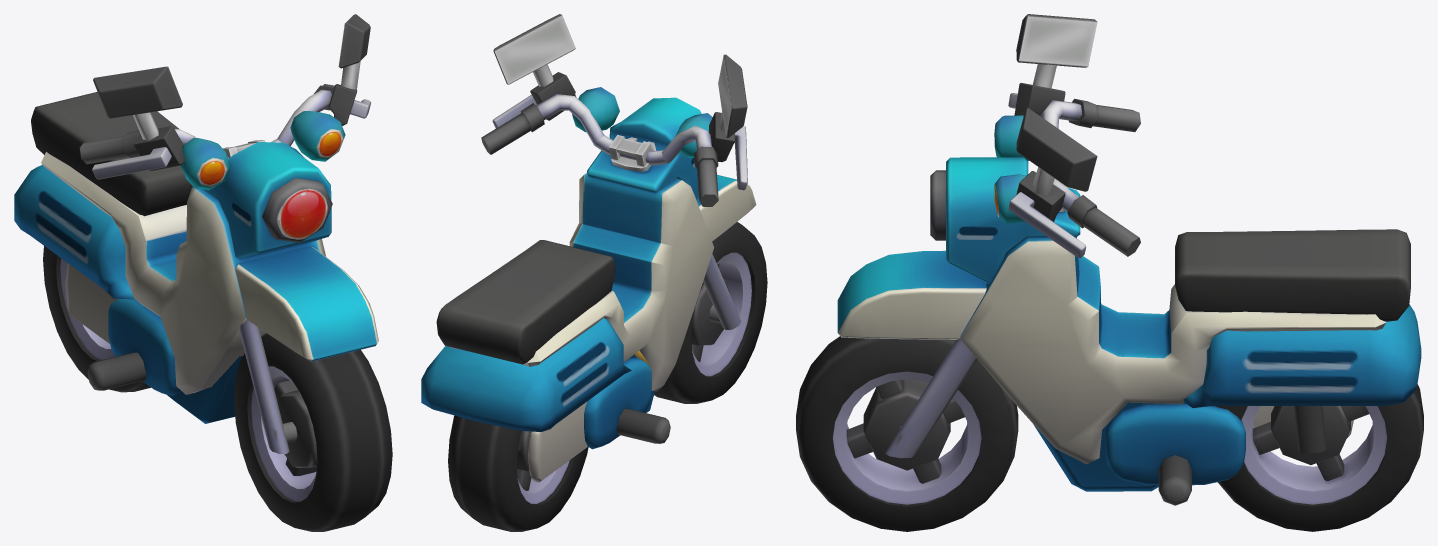
File: Motor.fbx
The picture shows the model from 3 angles, left to right: view 1: azimuth 30°, elevation 25°; view 2: azimuth 150°, elevation 25°; view 3: azimuth 270°, elevation 25°; orthographic projection. The views are drawn at different scales.
Visible parts, largest first — view 1: Xe, BanhTruoc, BanhSau; view 2: Xe, BanhSau, BanhTruoc; view 3: Xe, BanhTruoc, BanhSau.
Boxes of the visible parts, bbox=[...] form: Xe: bbox=[14, 14, 378, 453]; BanhTruoc: bbox=[234, 333, 392, 531]; BanhSau: bbox=[43, 246, 150, 392]; Xe: bbox=[421, 14, 756, 482]; BanhSau: bbox=[448, 415, 588, 531]; BanhTruoc: bbox=[654, 222, 767, 403]; Xe: bbox=[837, 14, 1421, 505]; BanhTruoc: bbox=[796, 336, 1018, 531]; BanhSau: bbox=[1216, 384, 1423, 531].
Size of the model in its own units: 8.38 by 12.53 by 15.41.
Materials: 1 (1 with a texture image).
